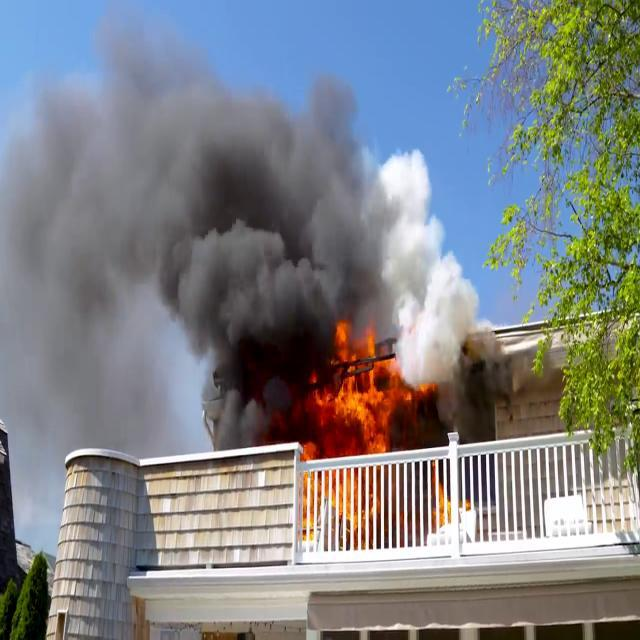Fire: (302, 302, 428, 505)
Smoke: (0, 48, 362, 450), (384, 176, 532, 474)
